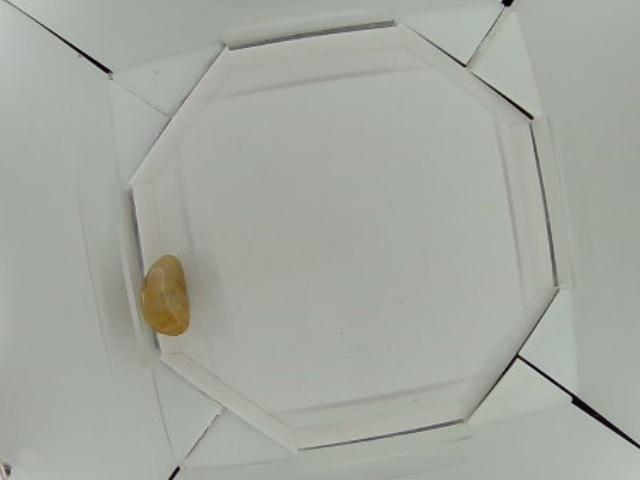Pebble: (136, 255, 187, 337)
